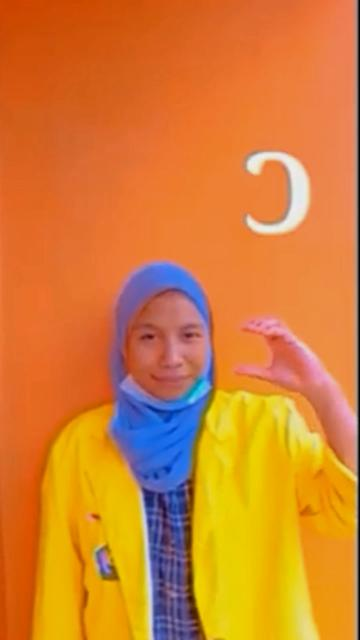C: (235, 314, 339, 398)
